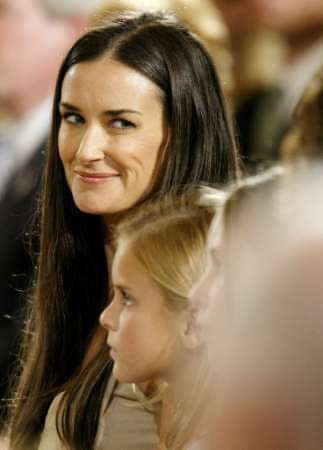Face: (54, 84, 169, 218), (91, 248, 179, 392)
